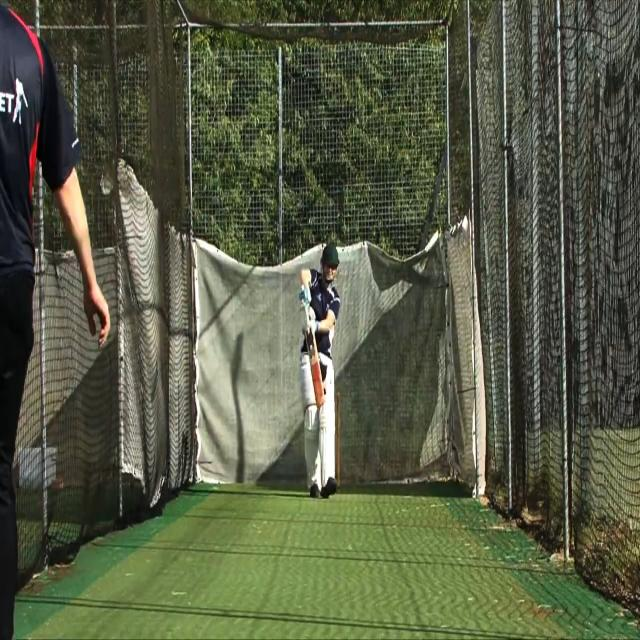batsman: (294, 240, 342, 500)
